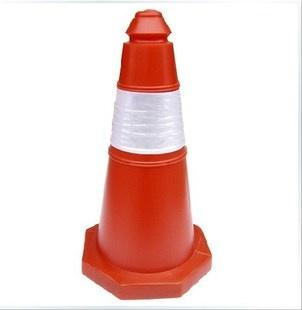cone_barrel: (82, 1, 204, 284)
